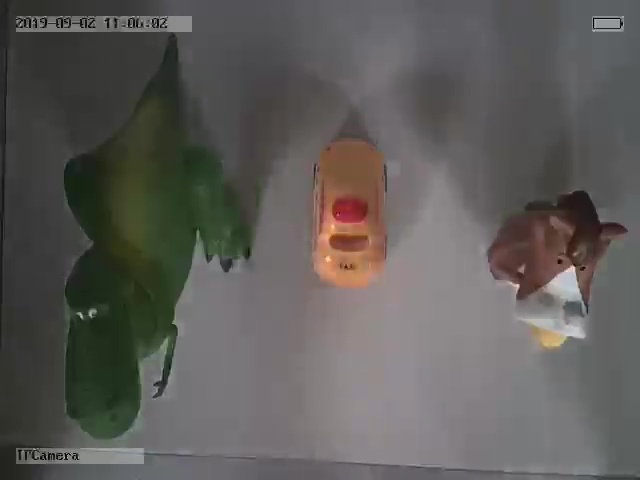car: (310, 135, 391, 291)
horse: (488, 190, 629, 351)
rex: (63, 51, 253, 440)
